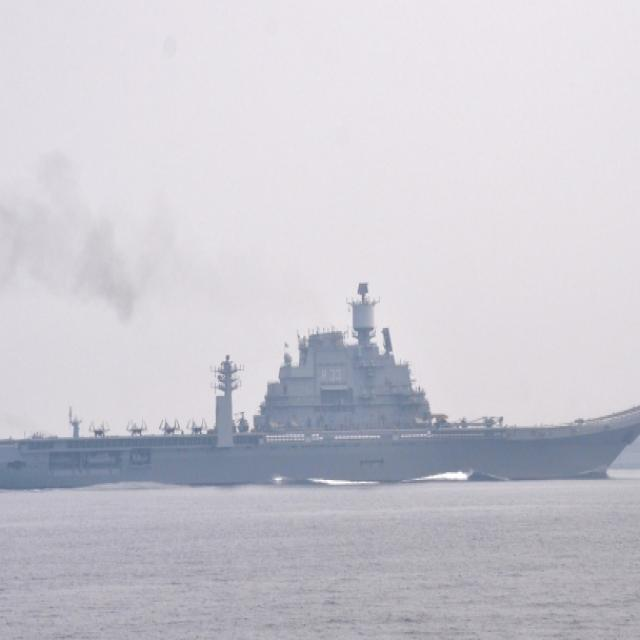Portanaves: (1, 264, 640, 502)
